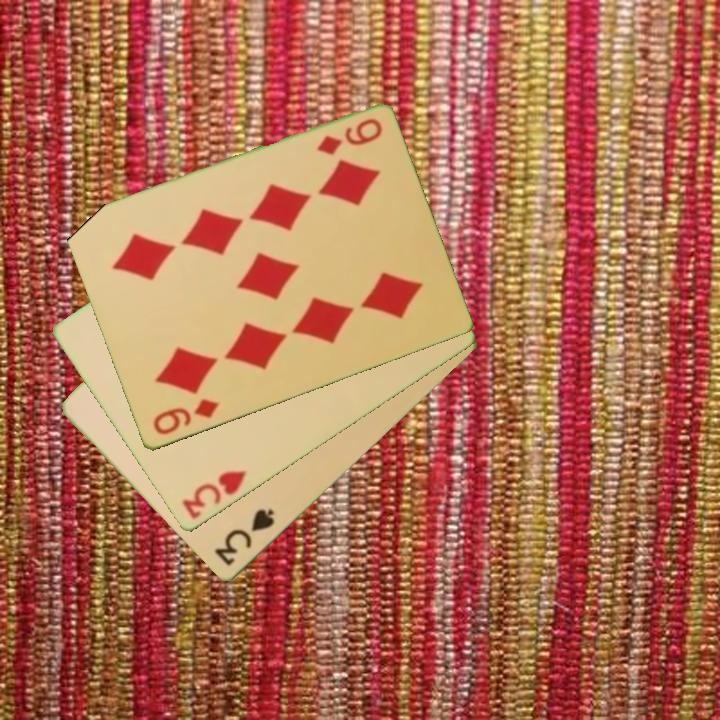3h: (178, 467, 250, 523)
3s: (210, 505, 278, 569)
9d: (313, 115, 385, 159), (149, 396, 222, 439)
